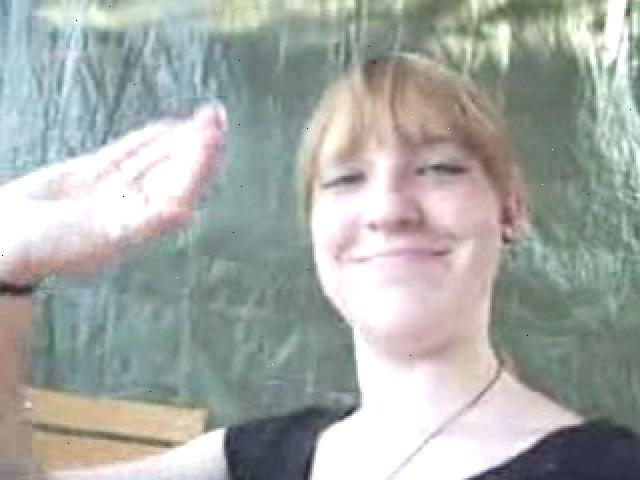T: (5, 51, 636, 478)
